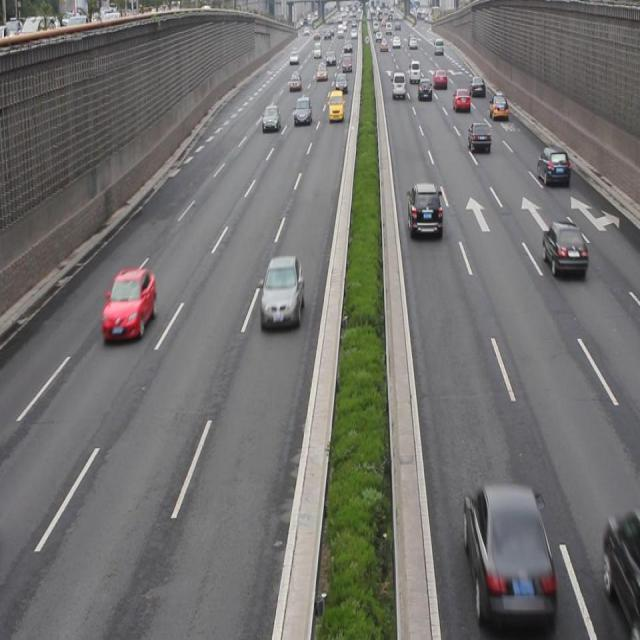car: (464, 483, 556, 620), (602, 511, 640, 631), (101, 266, 155, 344), (260, 254, 304, 330), (540, 218, 588, 276), (406, 181, 444, 241), (536, 144, 570, 188), (468, 119, 491, 157), (262, 104, 280, 133)
